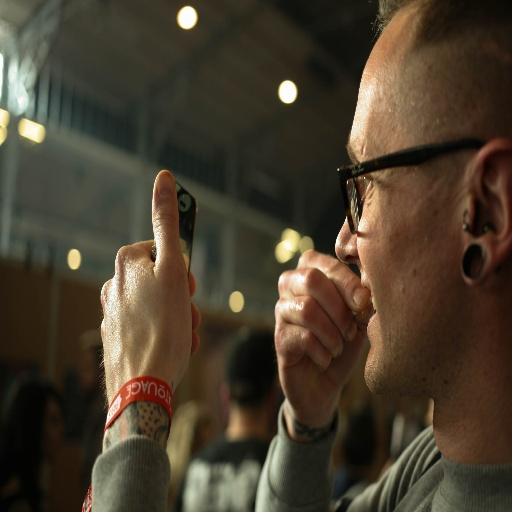hand: (98, 166, 202, 406), (272, 247, 376, 425)
